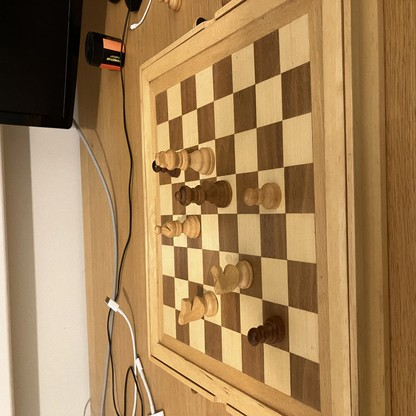bishop_white: (155, 215, 200, 239)
king_white: (156, 149, 215, 172)
knight_white: (212, 261, 253, 292), (179, 294, 219, 324)
pawn_black: (248, 315, 286, 344)
pawn_white: (244, 182, 282, 208)
queen_black: (176, 181, 233, 207)
